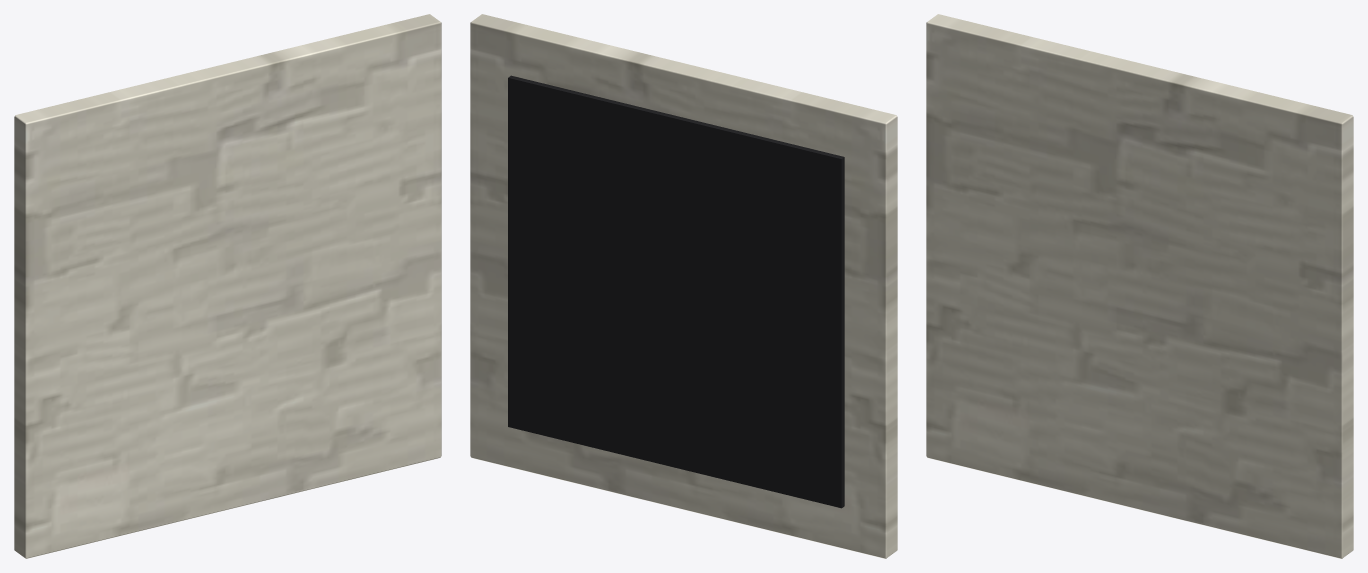
Rendered from art_bone_white.gltf.
3 renders of one model, left to right at view 1: azimuth 30°, elevation 25°; view 2: azimuth 150°, elevation 25°; view 3: azimuth 330°, elevation 25°, orthographic.
Parts seen in each view (by area): view 1: Art_BoneWhite_Art; view 2: Art_BoneWhite_Spacer, Art_BoneWhite_Art; view 3: Art_BoneWhite_Art.
Part boxes in pixels (left/top/right/bottom): Art_BoneWhite_Art: left=14, top=14, right=441, bottom=558; Art_BoneWhite_Spacer: left=508, top=75, right=844, bottom=508; Art_BoneWhite_Art: left=470, top=14, right=897, bottom=558; Art_BoneWhite_Art: left=926, top=14, right=1353, bottom=558.
Size of the model in its own units: 0.8 by 0.8 by 0.05.
Materials: 2 (1 with a texture image).
